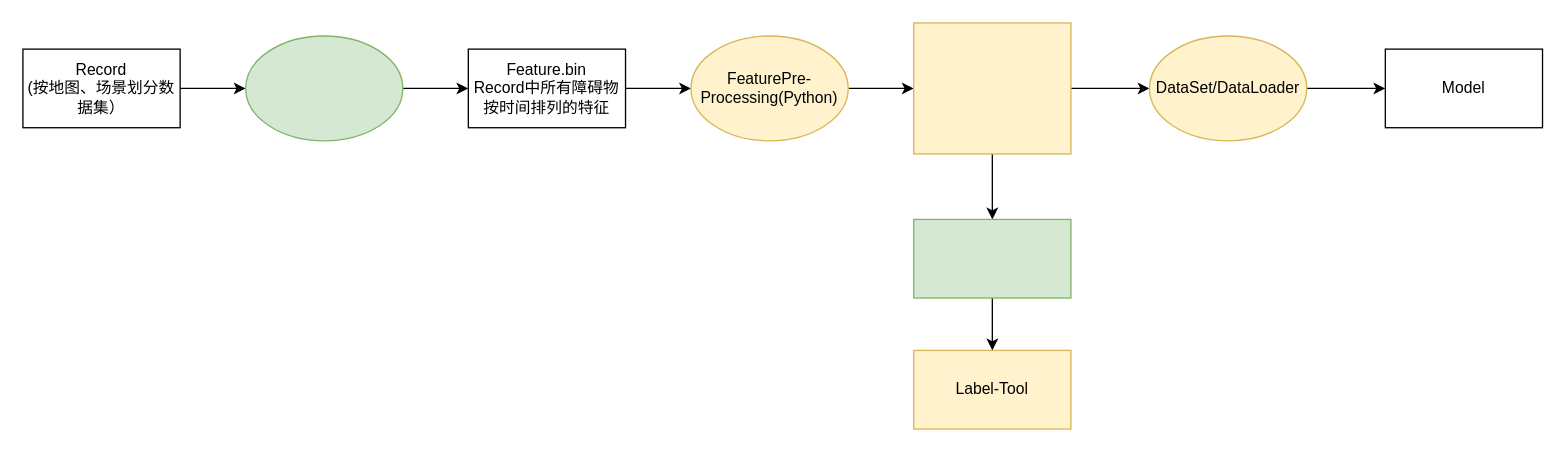
Some shapes in this 1565 by 452 pixel diagram are drawn without their labels. The shapes that lost their labels are listed below. From the top down, each one's centre as x and y in pixels, then its label:
At pixel 323 88: "RecordToProto（C++）".
At pixel 991 88: "Feature Feature …… Feature 单个障碍物一段时间的特征".
At pixel 991 258: "Visualization".
